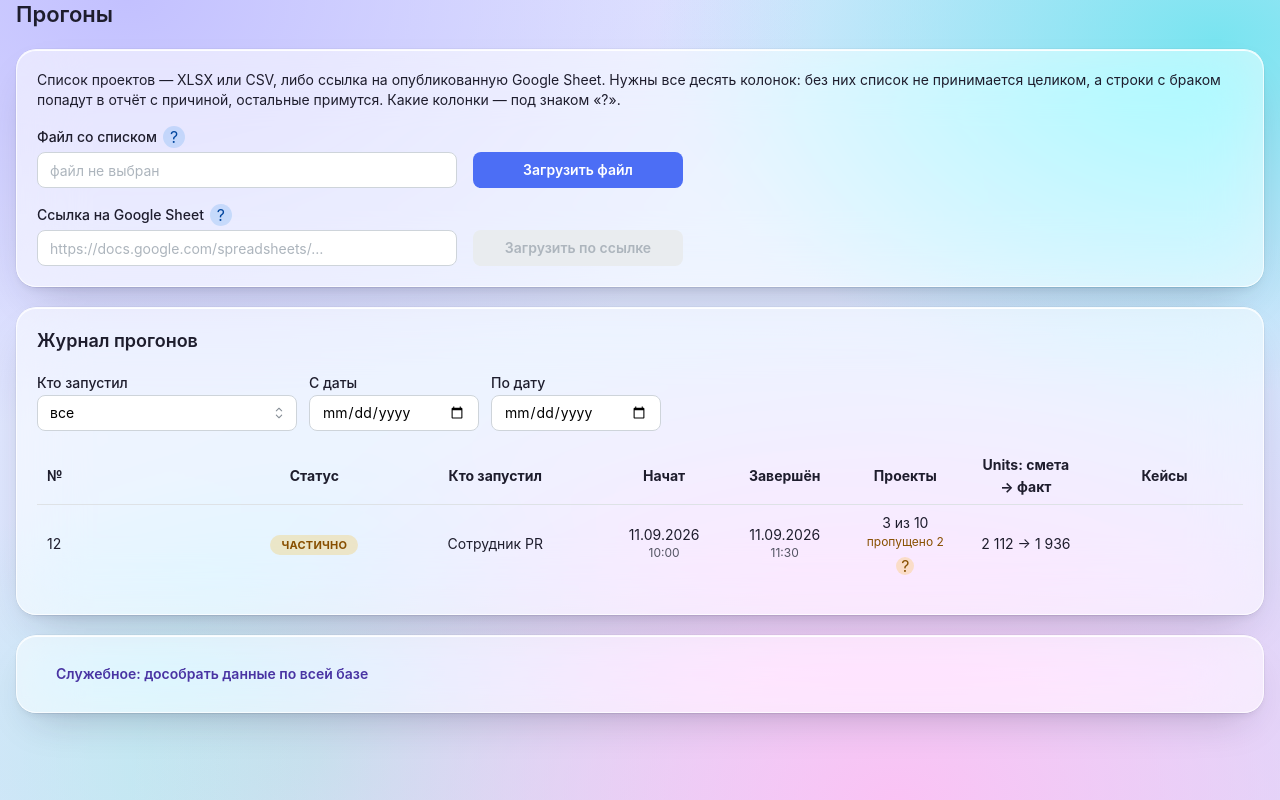
раскрытие показывает только проблемы › две кампании одного сайта с проблемой — две строки
Click the button named "почему пропущены".
click(905, 566)  # box [896,557,914,575]
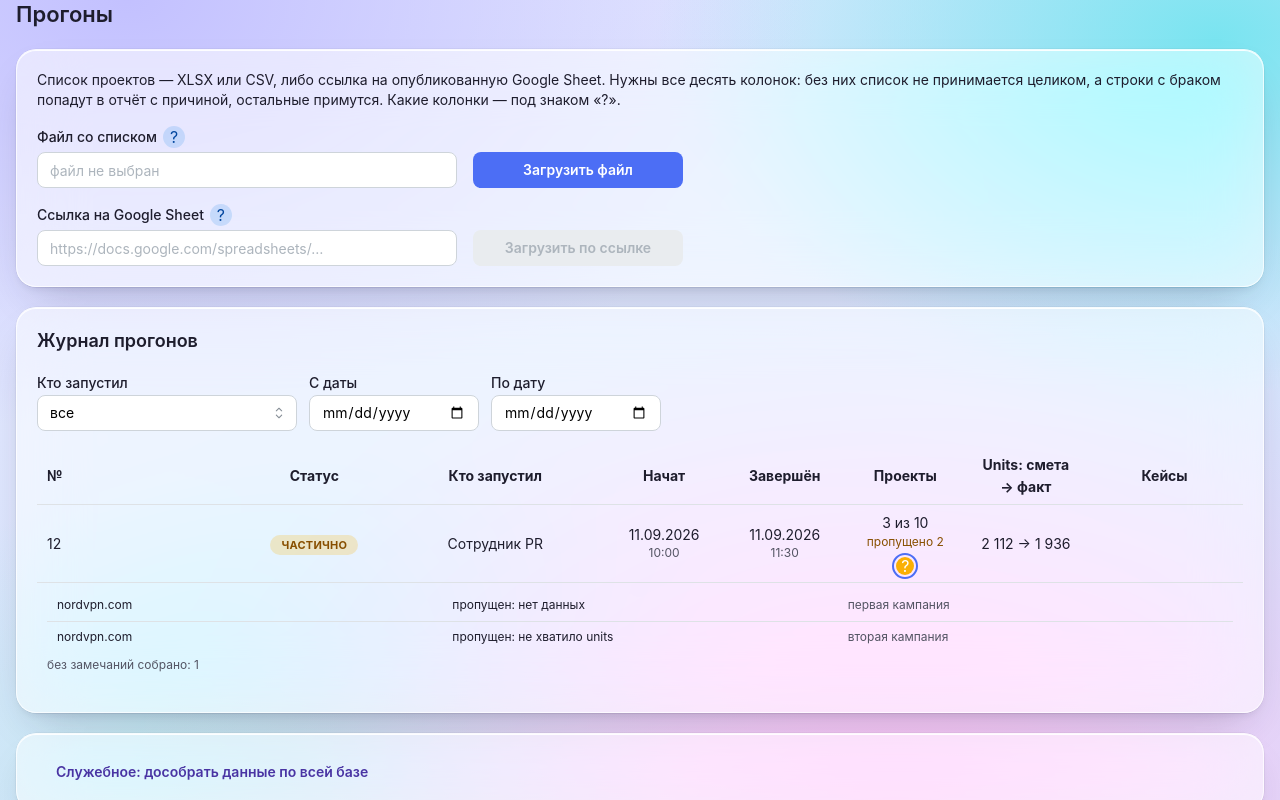
Expected: the text "первая кампания" is shown, [848,597,950,612]
Expected: the text "вторая кампания" is shown, [848,629,948,644]
Expected: the text "nordvpn.com" is shown 2 times, [57,597,132,612]; [57,629,132,644]
